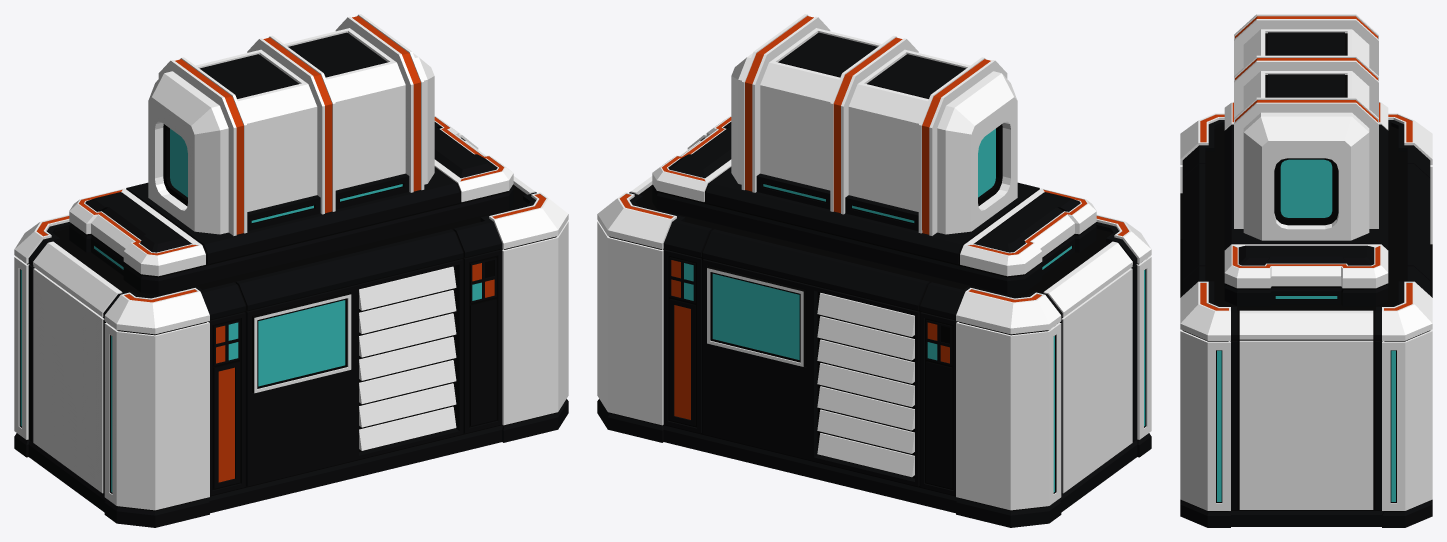
File: SM_Nuclear_T1.obj
The picture shows the model from 3 angles, left to right: view 1: azimuth 30°, elevation 25°; view 2: azimuth 150°, elevation 25°; view 3: azimuth 270°, elevation 25°; orthographic projection. The views are drawn at different scales.
Parts seen in each view (by area): view 1: SM_Nuclear_T1; view 2: SM_Nuclear_T1; view 3: SM_Nuclear_T1.
Boxes of the visible parts, left/top/right/bottom form: SM_Nuclear_T1: left=14, top=14, right=568, bottom=527; SM_Nuclear_T1: left=597, top=14, right=1151, bottom=527; SM_Nuclear_T1: left=1180, top=14, right=1432, bottom=527.
Bounding box in the file's own units: 2 × 1.59 × 1.
